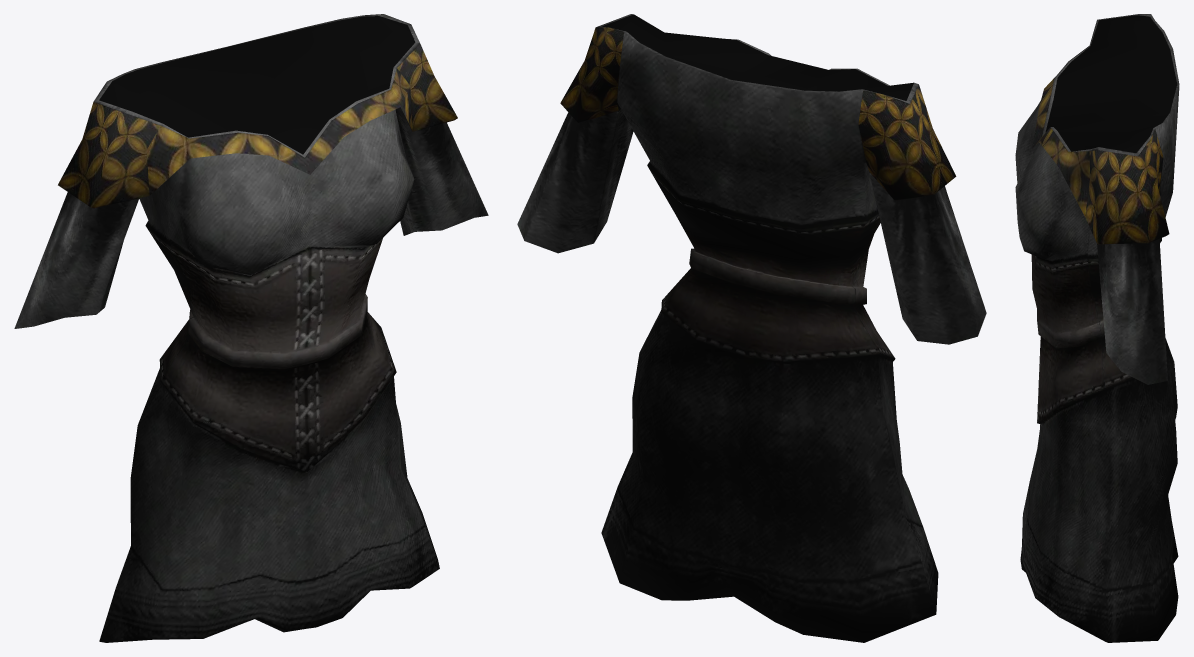
Rendered from STATIC_GS_SLAV_BABE_03_KOZA.glb.
The picture shows the model from 3 angles, left to right: view 1: azimuth 30°, elevation 25°; view 2: azimuth 150°, elevation 25°; view 3: azimuth 270°, elevation 25°; orthographic projection. The views are drawn at different scales.
Parts seen in each view (by area): view 1: Mesh; view 2: Mesh; view 3: Mesh.
Part boxes in pixels (<box>): Mesh: <box>14,14,488,642</box>; Mesh: <box>517,14,986,642</box>; Mesh: <box>1015,14,1179,642</box>.
Bounding box in the file's own units: 0.6236 × 0.7127 × 0.2074.
1 material, 1 textured.
